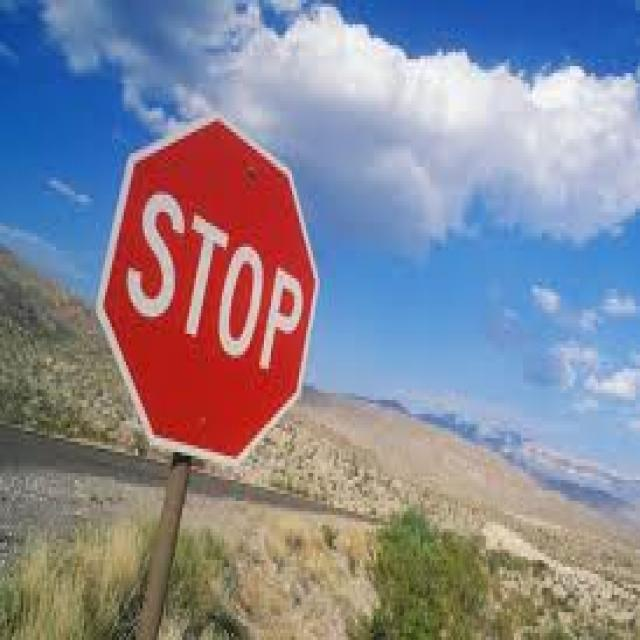stop-sign: (110, 118, 349, 449)
